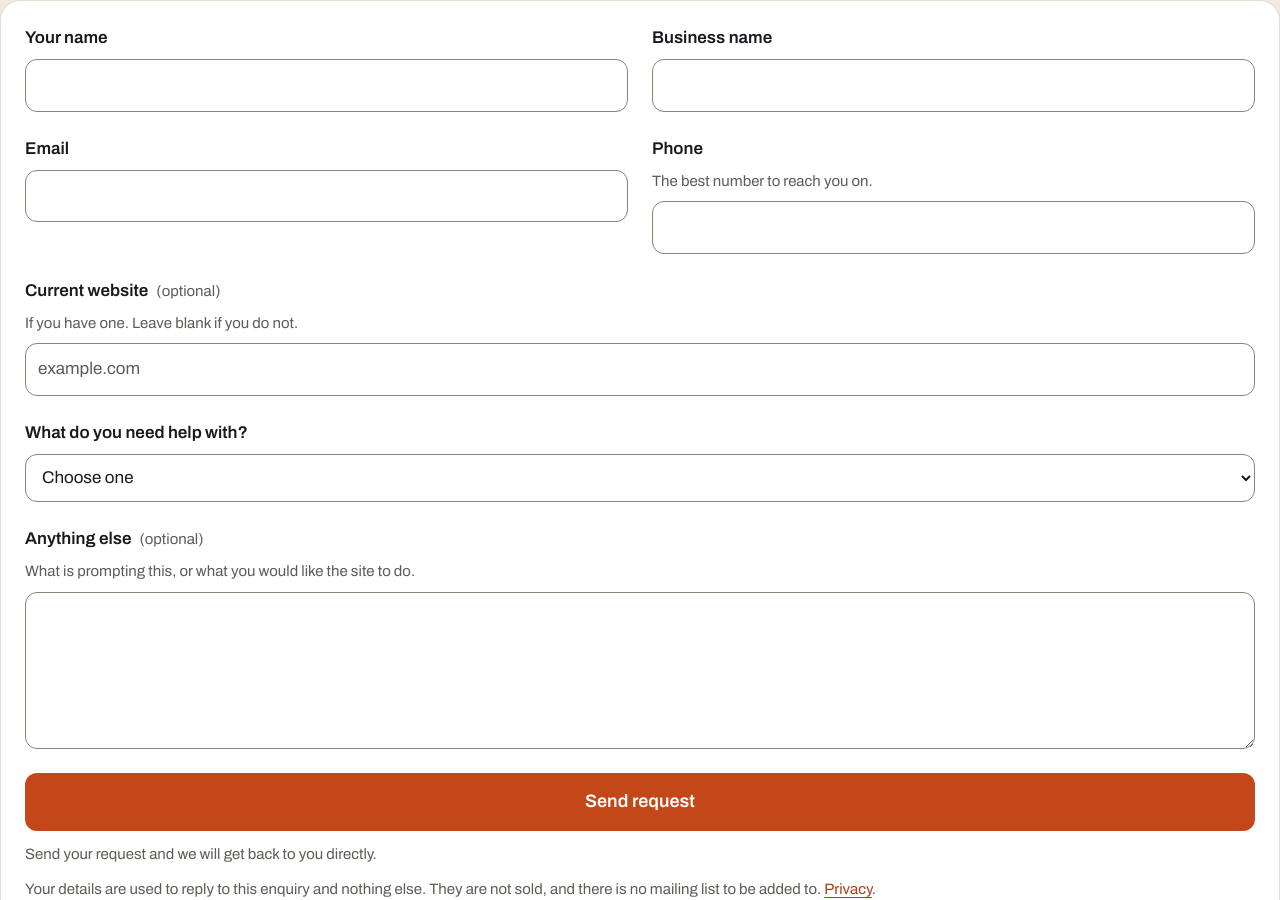
Test: ContactForm › when required fields are missing › clears a field error once the visitor corrects it
Click the button "Send request".
click(640, 802)  # box [25, 773, 1255, 831]
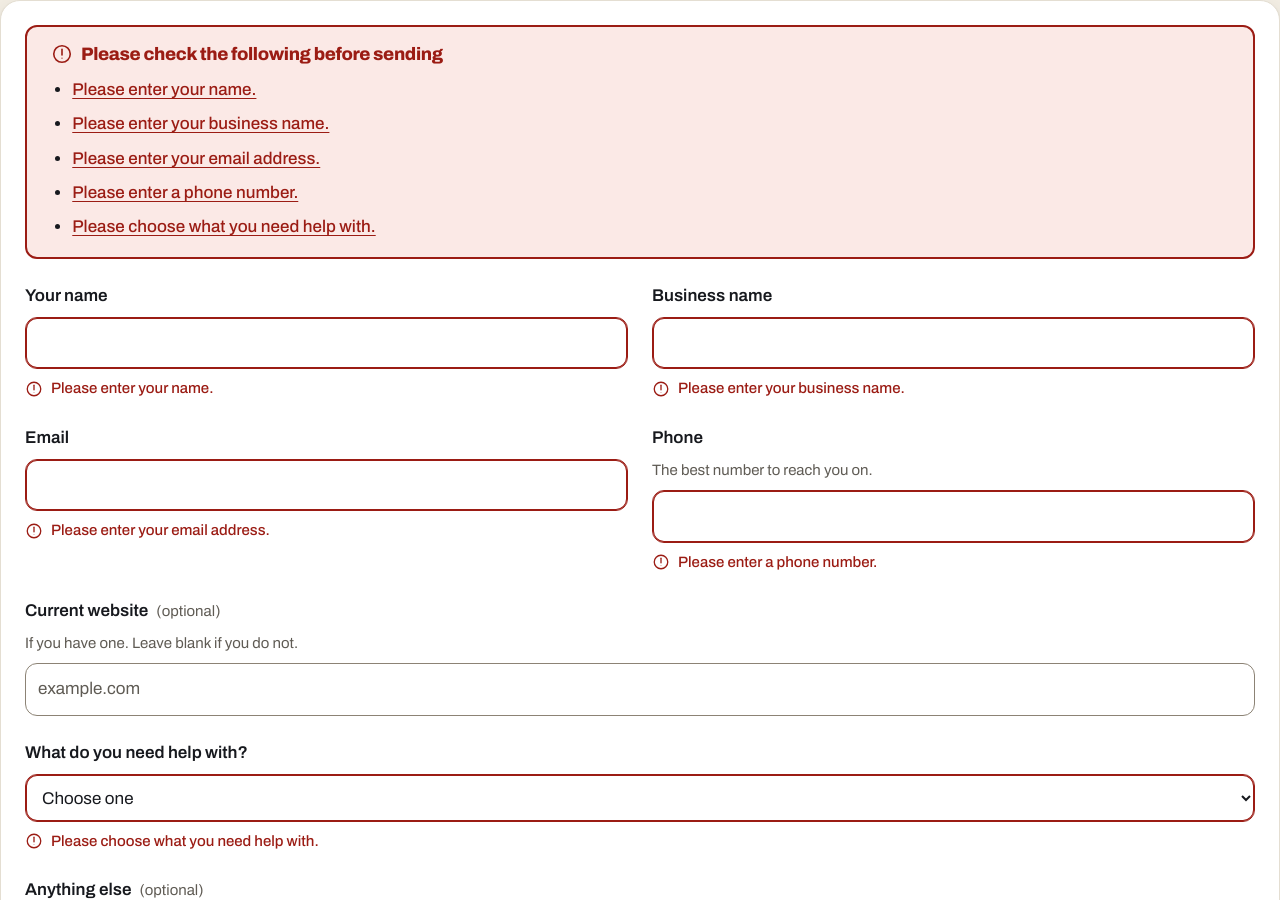
Now the message is shown, box [25, 25, 1255, 259]
Type "Dana Reyes" into the field labelled "Your name".
click(326, 343); type("Dana Reyes")  # box [25, 317, 628, 369]
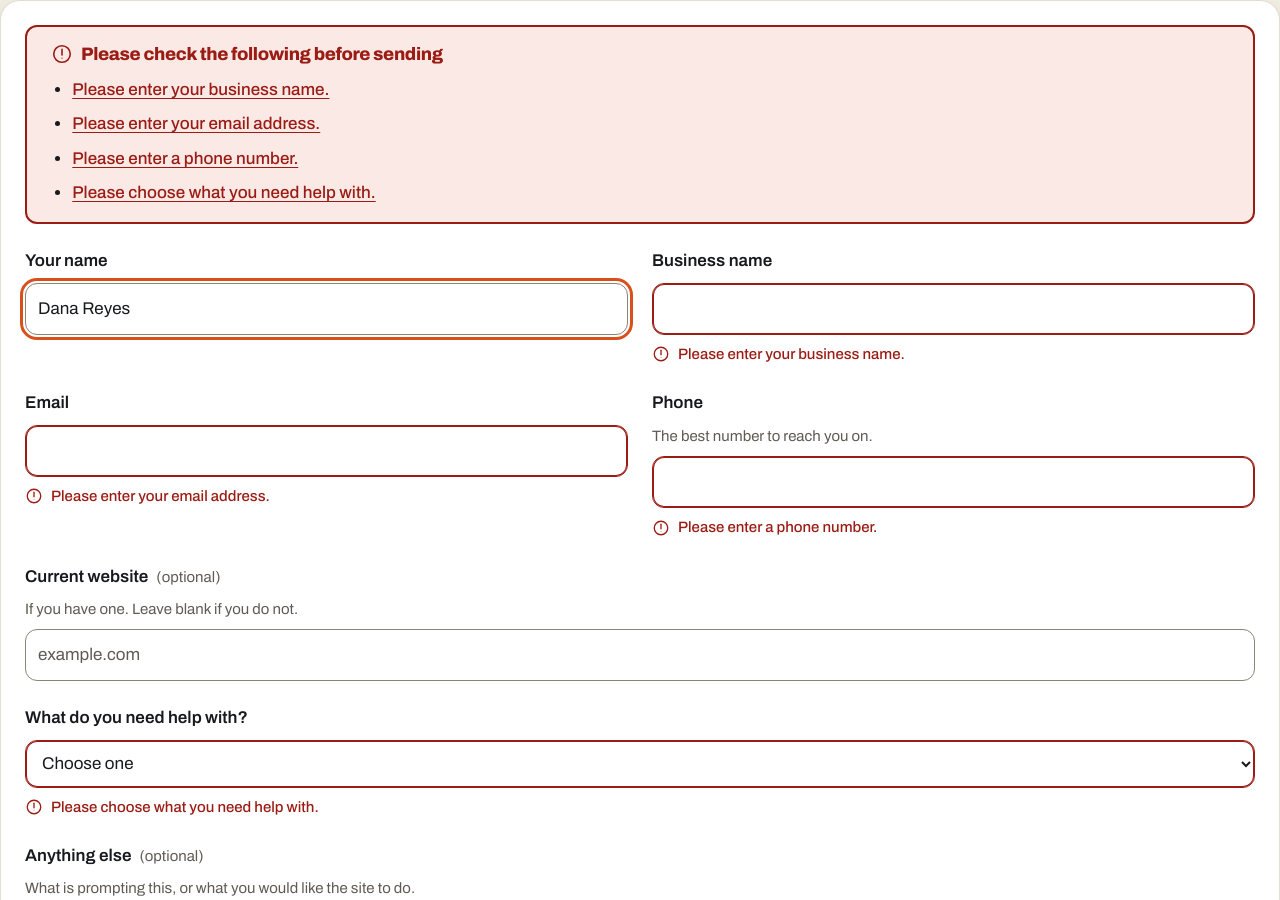
Now the link "Please enter your name" is gone
